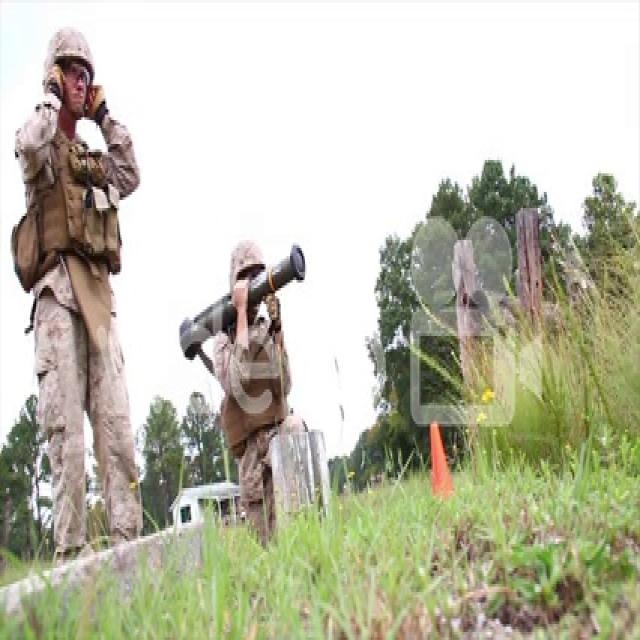bazooka: (175, 236, 309, 369)
